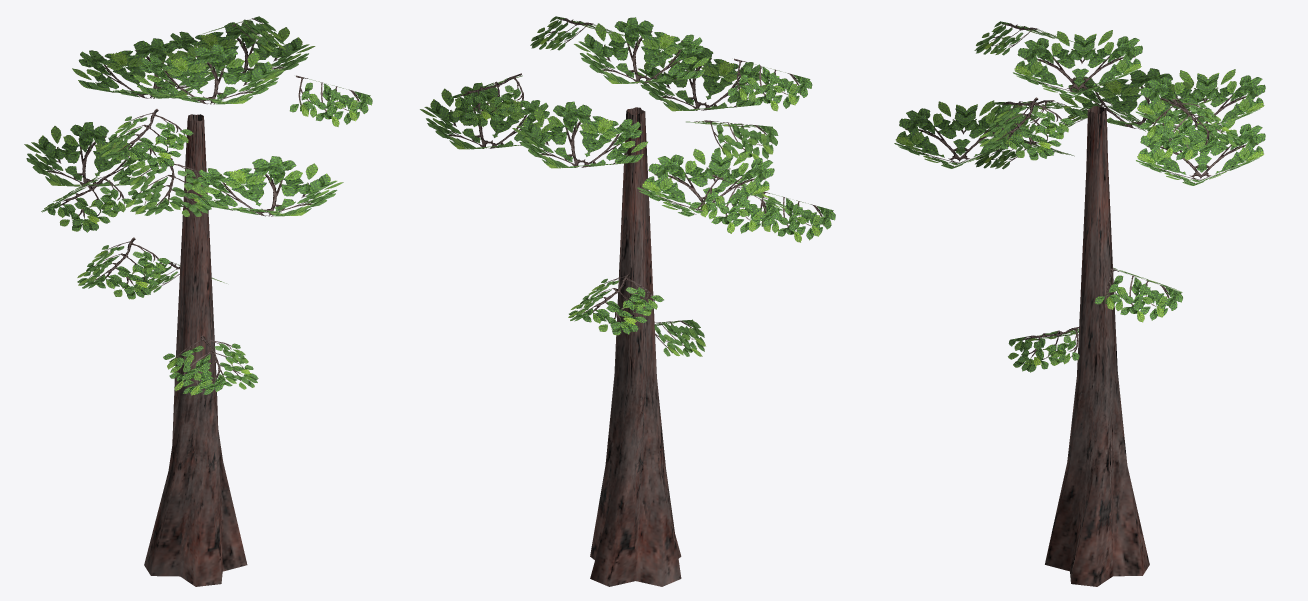
Rendered from 0ad-ancient.5dec8b5eb0ab.teak.glb.
3 views of the same model, side by side, from view 1: azimuth 30°, elevation 25°; view 2: azimuth 150°, elevation 25°; view 3: azimuth 270°, elevation 25° (orthographic). The views are drawn at different scales.
Parts seen in each view (by area): view 1: flora/trees/teak.xml; view 2: flora/trees/teak.xml; view 3: flora/trees/teak.xml.
Part boxes in pixels (x1,y1,x2,y2): flora/trees/teak.xml: (24, 16, 372, 586); flora/trees/teak.xml: (420, 16, 835, 586); flora/trees/teak.xml: (894, 21, 1265, 586).
Bounding box in the file's own units: 23.88 × 32.99 × 25.11.
1 material, 1 textured.
